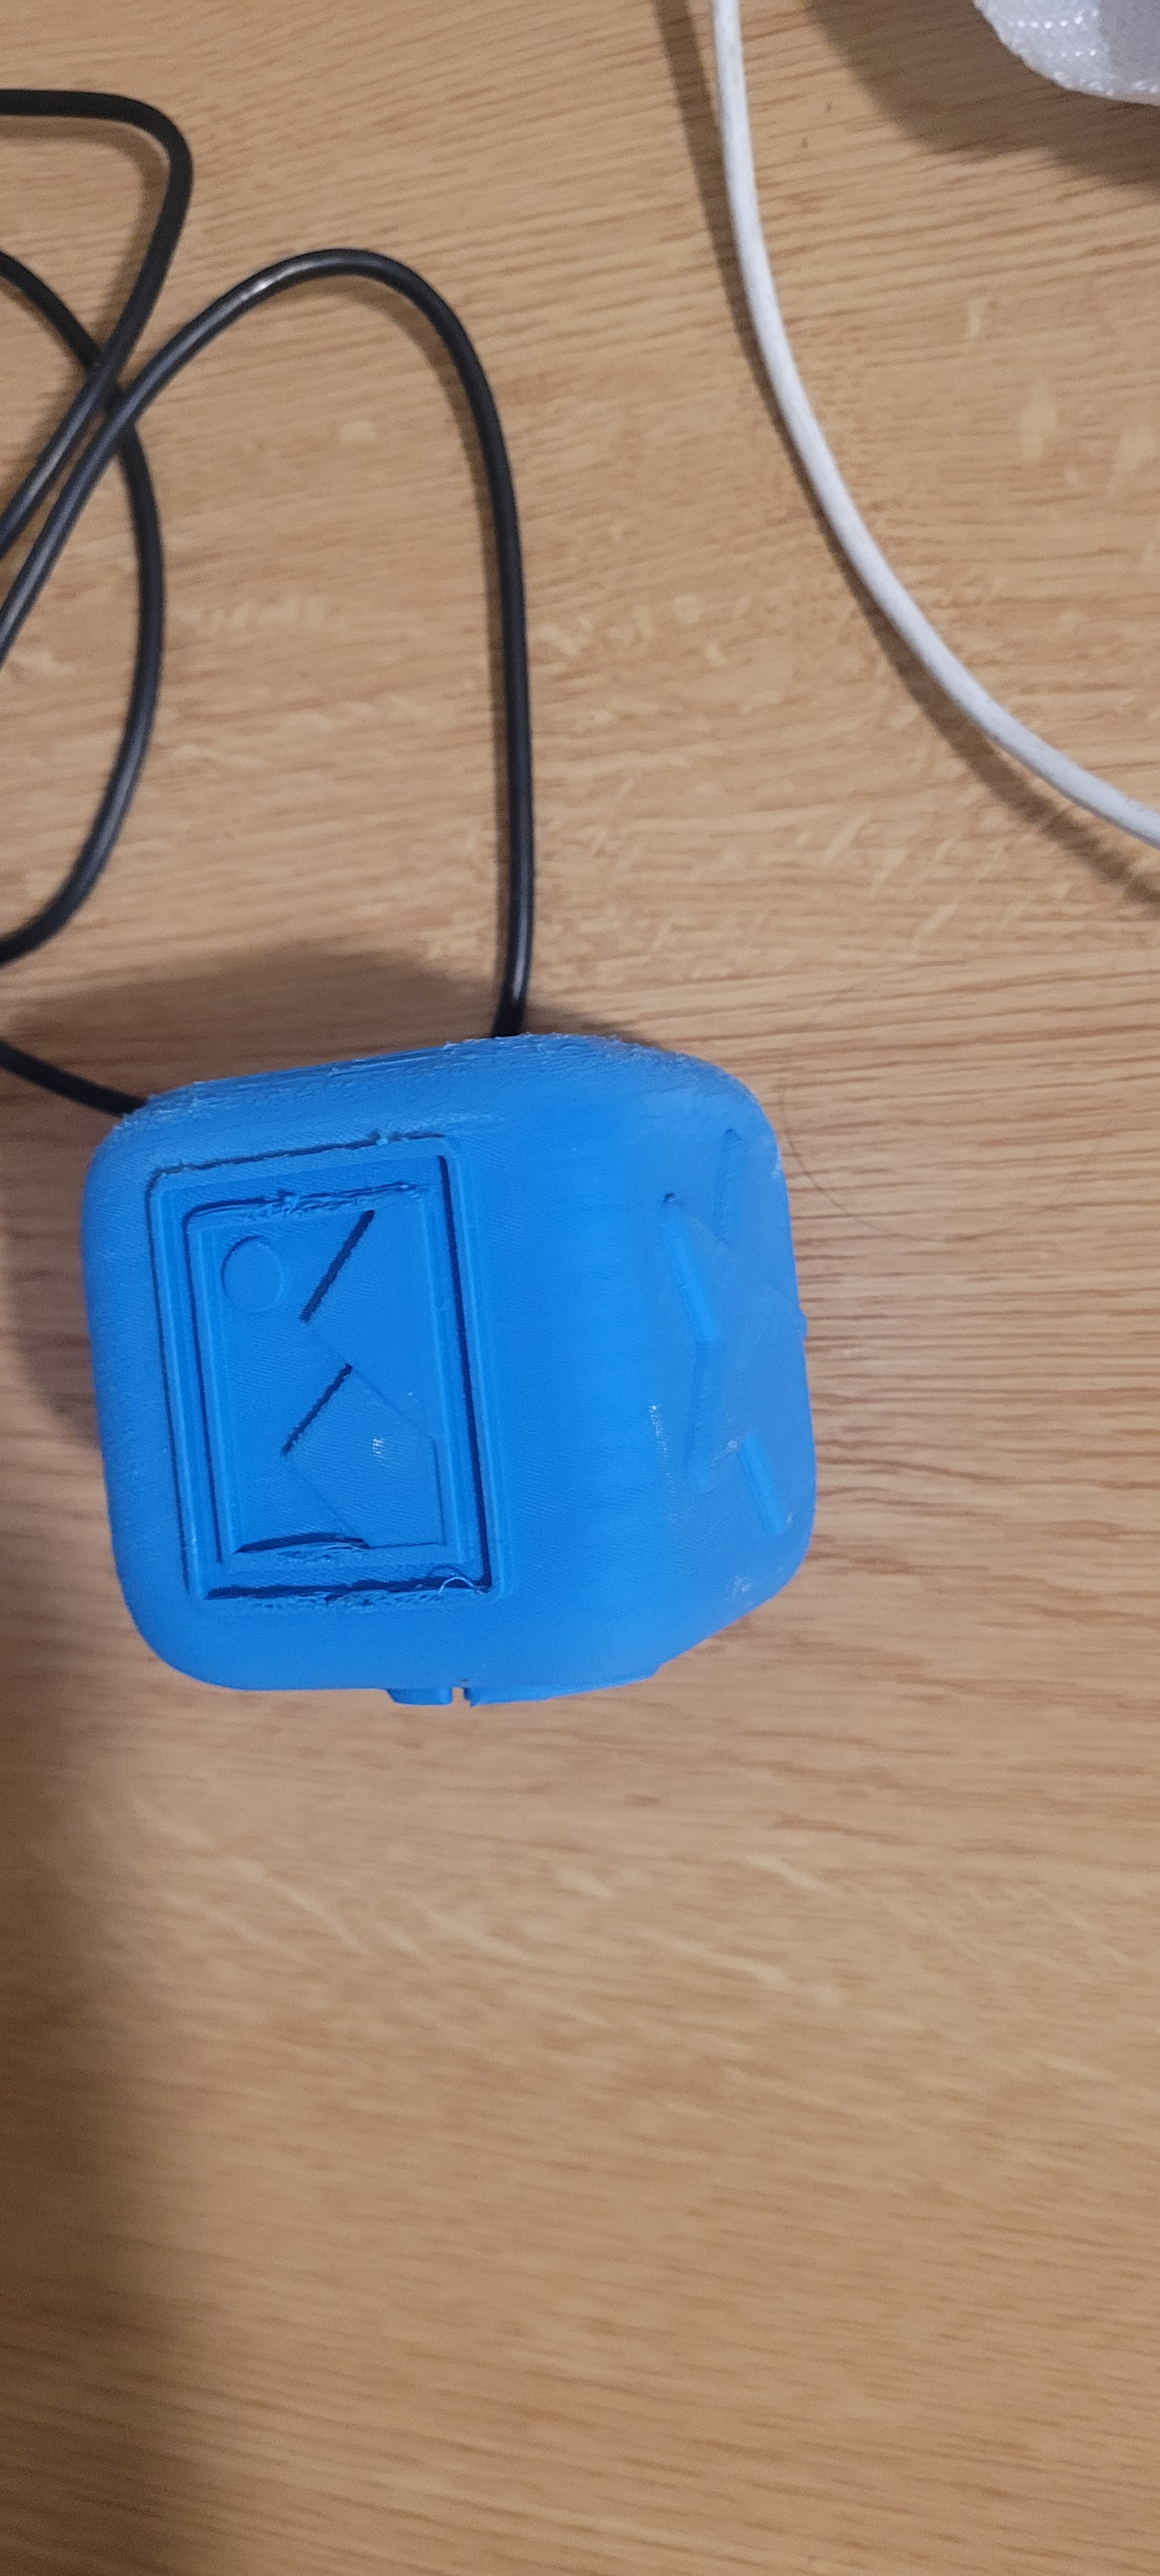Story: (118, 1138, 542, 1653)
